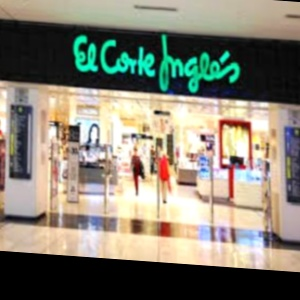corte_ingles: (204, 16, 281, 64)
